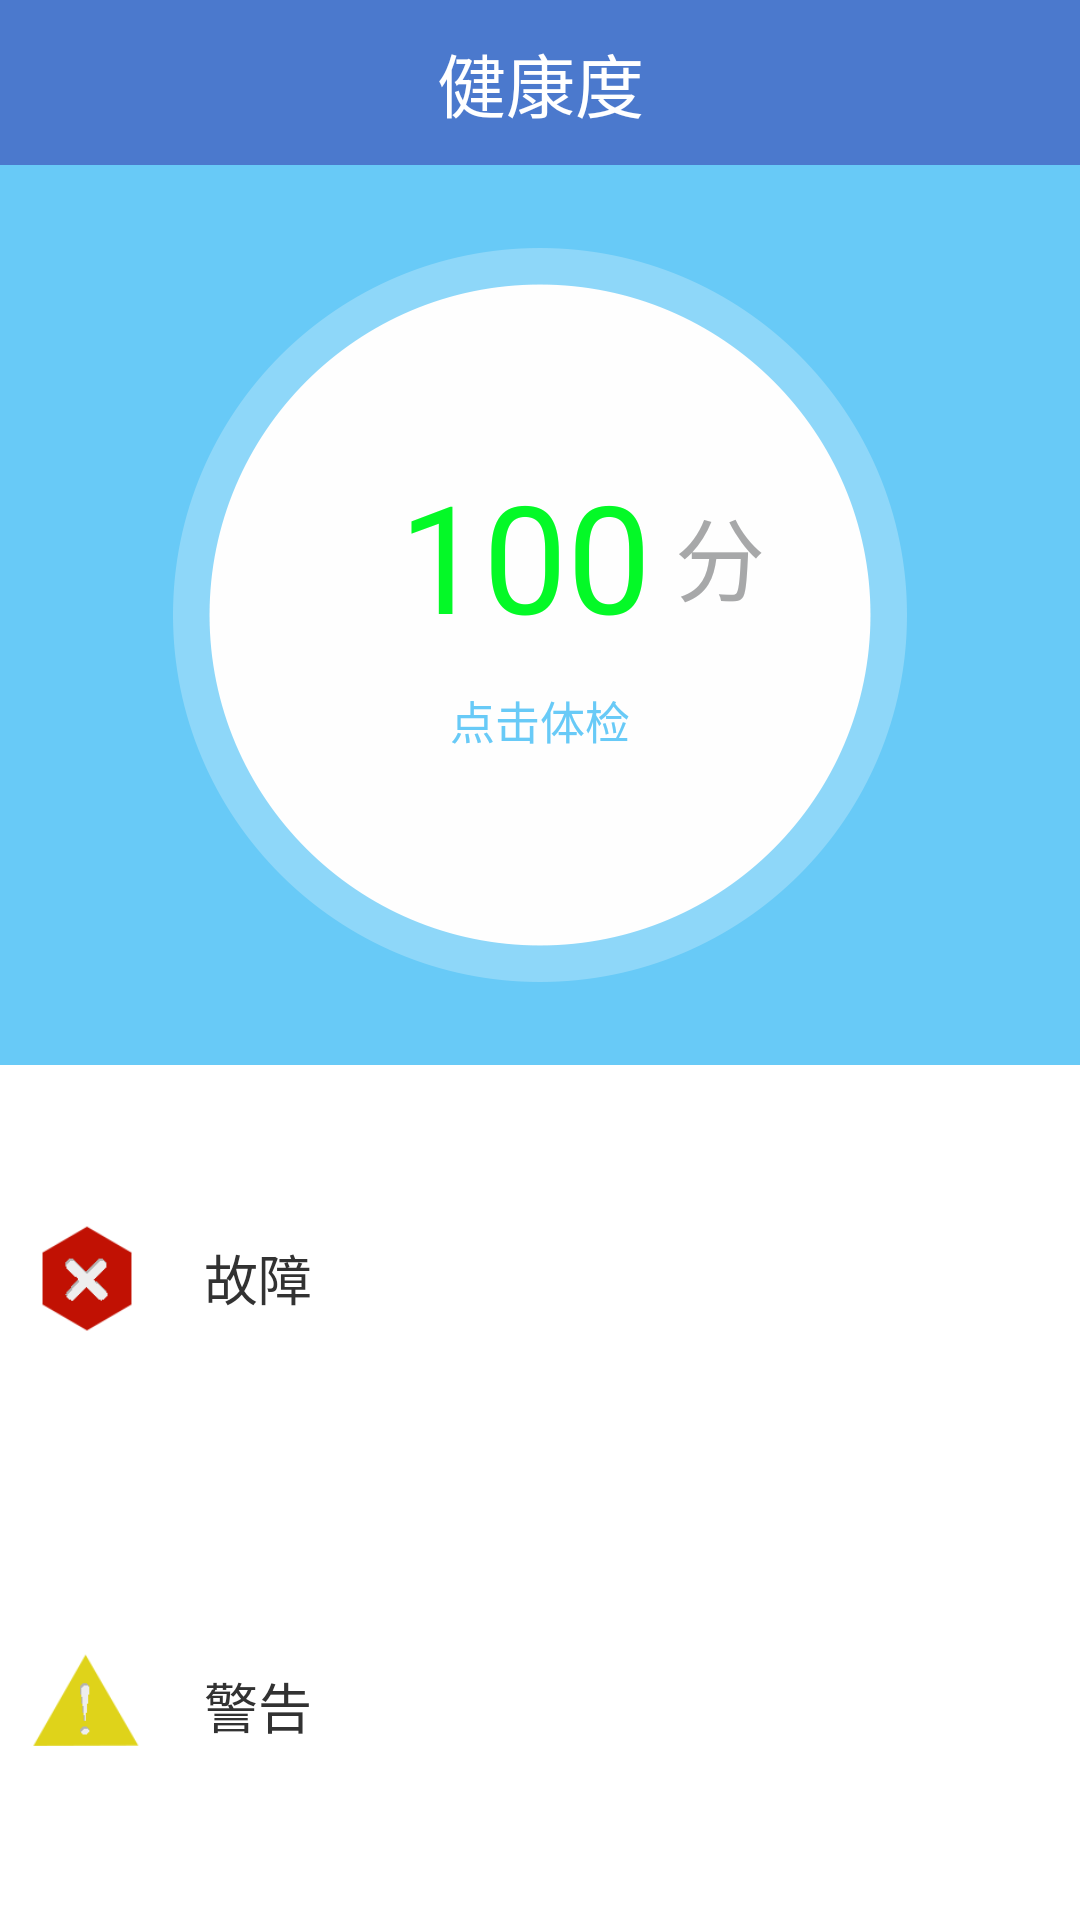

Locate icon controls on the screen. Image size 1080px x 1920px, boxes as (x1, y1, x2, y2).
error: (42, 1226, 132, 1331)
warning: (33, 1654, 139, 1746)
